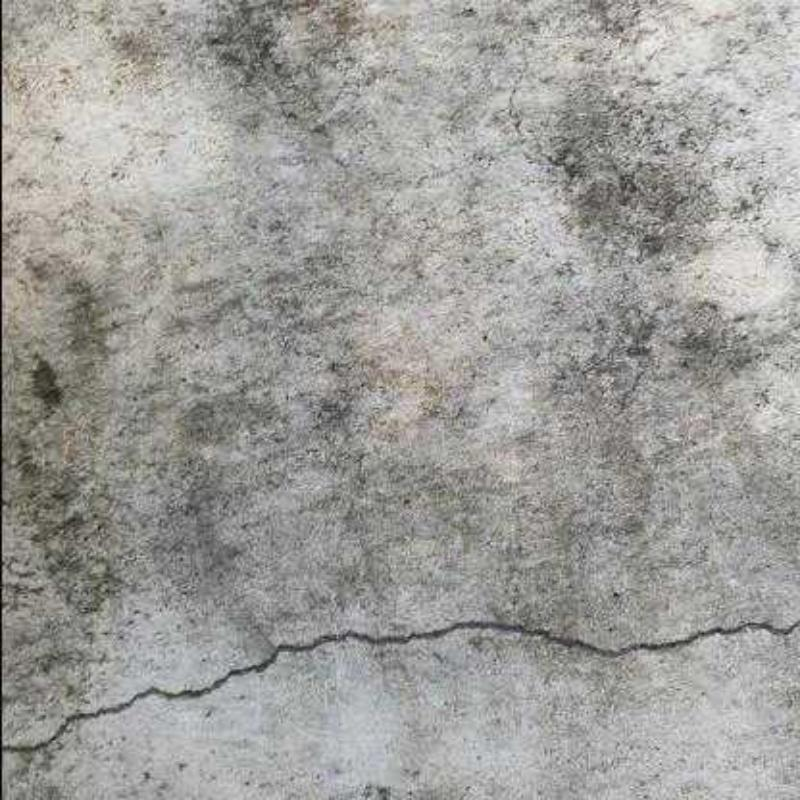pothole: (1, 619, 798, 752), (508, 54, 565, 169)
